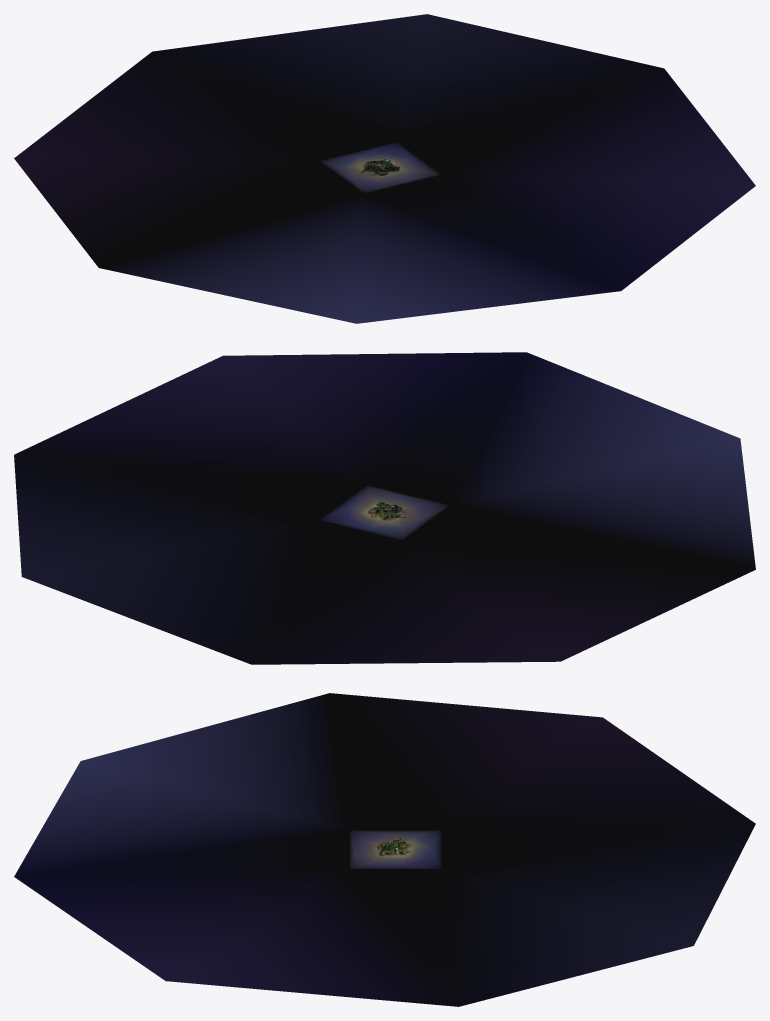
Rendered from DTI.glb.
3 views of the same model, one above another, from view 1: azimuth 30°, elevation 25°; view 2: azimuth 150°, elevation 25°; view 3: azimuth 270°, elevation 25° (orthographic). The views are drawn at different scales.
Parts seen in each view (by area): view 1: DTI; view 2: DTI; view 3: DTI.
Part boxes in pixels (left/top/right/bottom): DTI: left=14, top=14, right=755, bottom=323; DTI: left=14, top=352, right=755, bottom=664; DTI: left=14, top=693, right=755, bottom=1006.
Bounding box in the file's own units: 8314 × 102 × 8307.
